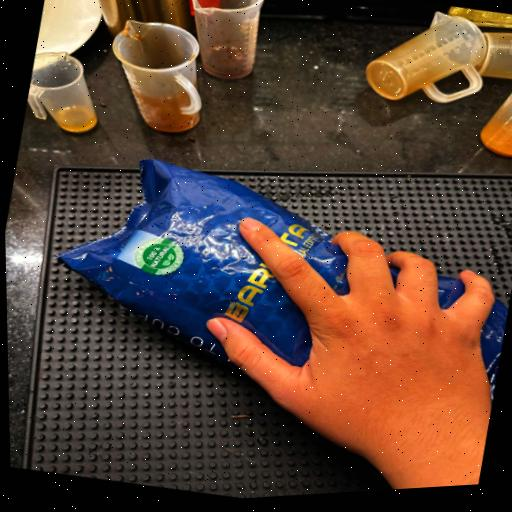cafe_hat: (15, 85, 512, 463)
